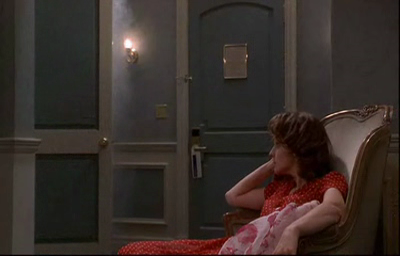face: (269, 137, 288, 175)
ms: (1, 1, 400, 256)
person: (117, 111, 346, 254)
